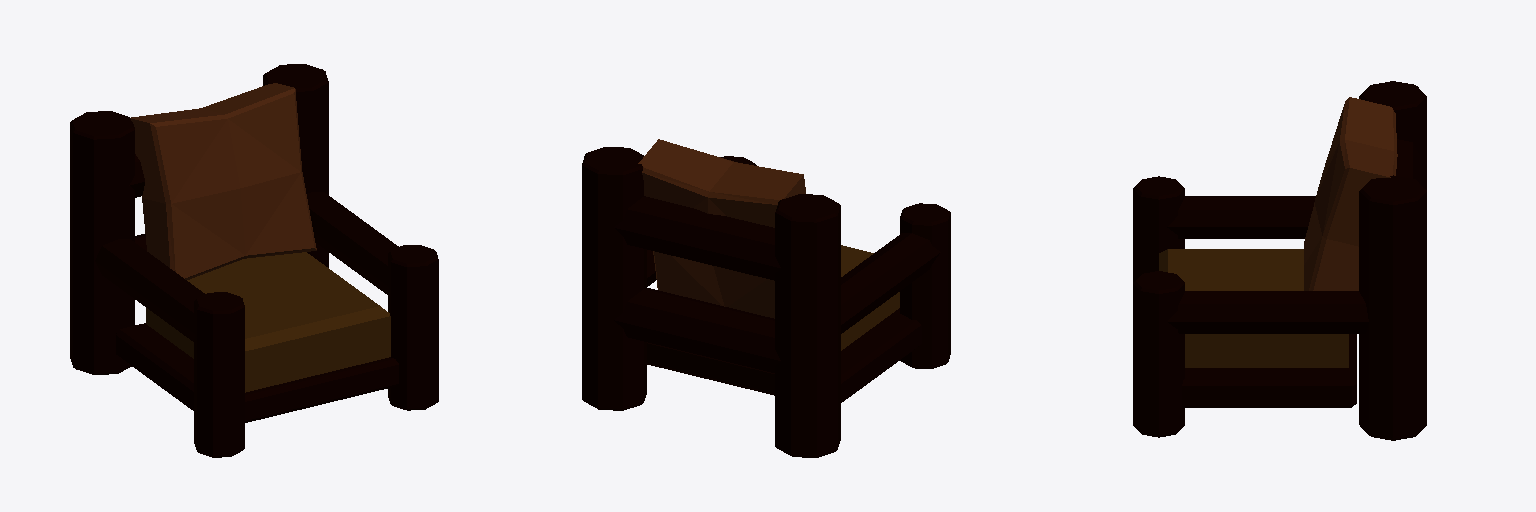
Rendered from WoodArmChair1.obj.
The picture shows the model from 3 angles: view 1: azimuth 30°, elevation 25°; view 2: azimuth 150°, elevation 25°; view 3: azimuth 270°, elevation 25°; orthographic projection.
Visible parts, largest first — view 1: WoodArmChair1_Cube, Pad1WoodArmChair1_Cube.008, Pad2WoodArmChair1_Cube.002; view 2: WoodArmChair1_Cube, Pad1WoodArmChair1_Cube.008, Pad2WoodArmChair1_Cube.002; view 3: WoodArmChair1_Cube, Pad2WoodArmChair1_Cube.002, Pad1WoodArmChair1_Cube.008.
Boxes of the visible parts, x1,y1,x2,y2 form: WoodArmChair1_Cube: [70, 64, 438, 457]; Pad1WoodArmChair1_Cube.008: [130, 83, 316, 279]; Pad2WoodArmChair1_Cube.002: [146, 252, 390, 392]; WoodArmChair1_Cube: [582, 147, 950, 457]; Pad1WoodArmChair1_Cube.008: [638, 139, 805, 318]; Pad2WoodArmChair1_Cube.002: [841, 245, 899, 350]; WoodArmChair1_Cube: [1133, 81, 1426, 440]; Pad2WoodArmChair1_Cube.002: [1159, 249, 1348, 367]; Pad1WoodArmChair1_Cube.008: [1304, 97, 1397, 290].
Size of the model in its own units: 1.17 by 1.1 by 1.18.